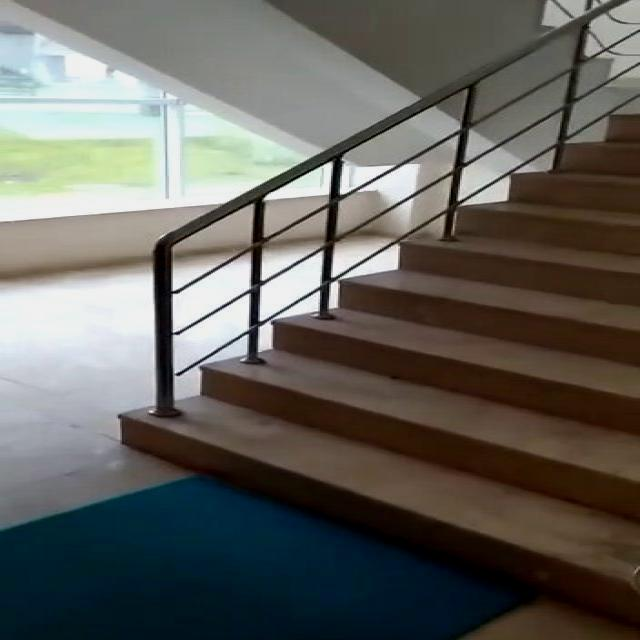stair: (75, 84, 640, 640)
